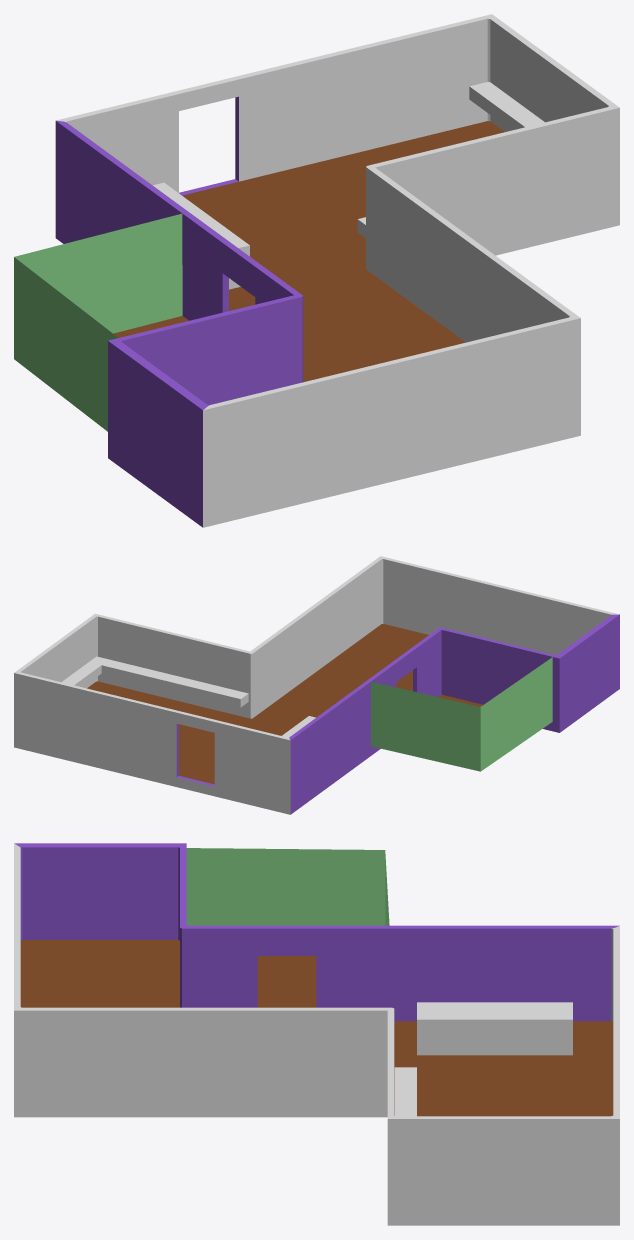
The model's file is EnvironmentVRconcept.fbx.
3 renders of one model, top to bottom at view 1: azimuth 30°, elevation 25°; view 2: azimuth 150°, elevation 25°; view 3: azimuth 270°, elevation 25°, orthographic. The views are drawn at different scales.
Visible parts, largest first — view 1: Room, Tables; view 2: Room, Tables; view 3: Room, Tables.
Boxes of the visible parts, x1,y1,x2,y2 form: Room: (14, 14, 619, 527); Tables: (153, 82, 544, 289); Room: (14, 556, 619, 814); Tables: (62, 656, 315, 737); Room: (14, 843, 619, 1225); Tables: (394, 1002, 572, 1116).
Size of the model in its own units: 650 by 117 by 603.
